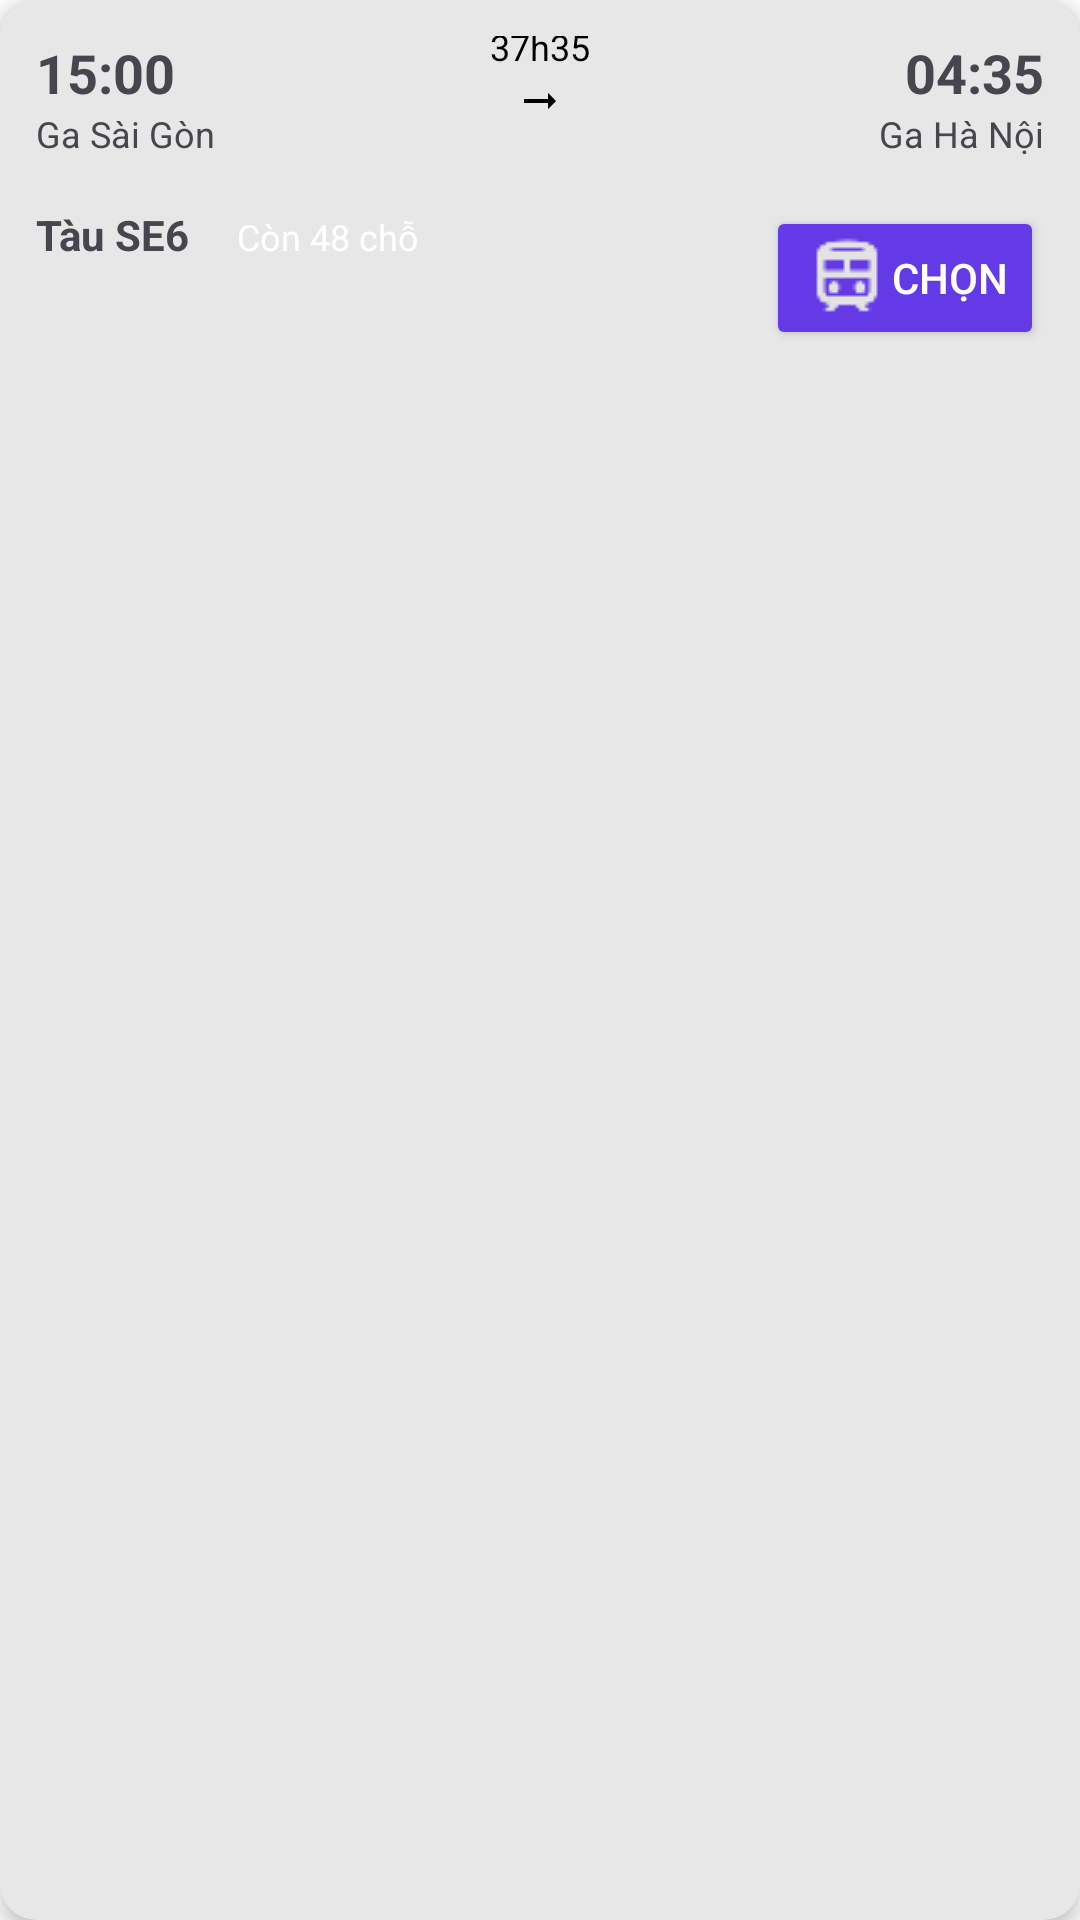

Point at icon controls on the screen. Image size 1080x1920, points as point (x, y).
arrow right: point (540, 101)
